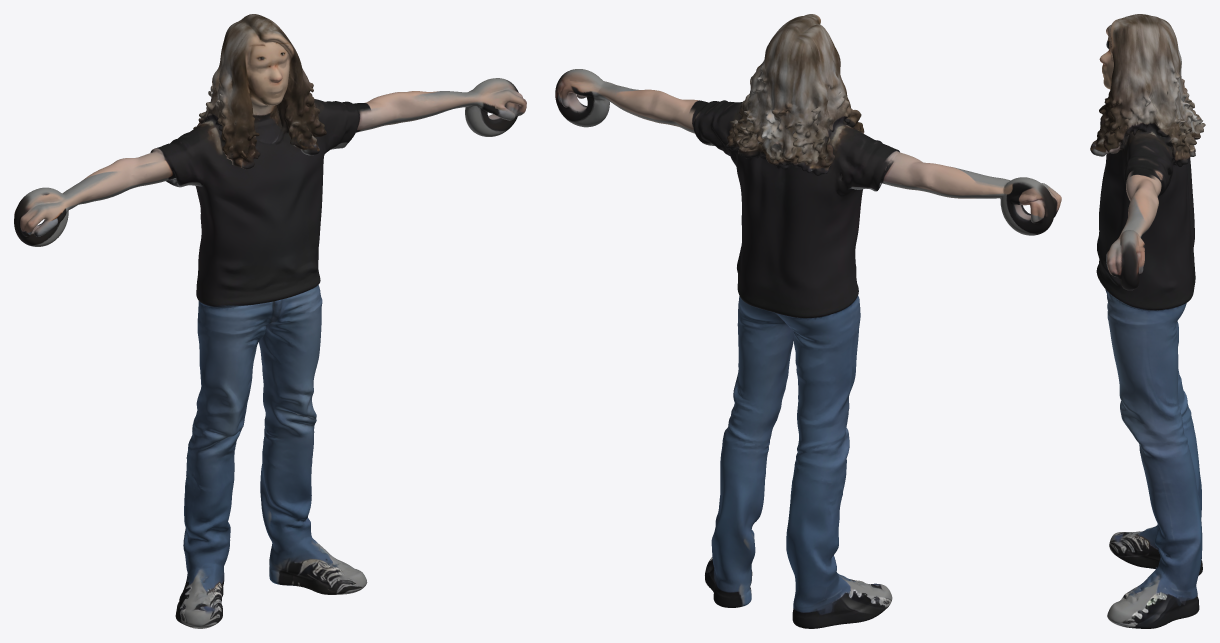
File: max.glb
3 views of the same model, side by side, from view 1: azimuth 30°, elevation 25°; view 2: azimuth 150°, elevation 25°; view 3: azimuth 270°, elevation 25° (orthographic). The views are drawn at different scales.
Parts seen in each view (by area): view 1: tripo_node_244a2039-4f11-4710-8ceb-407e35687b35; view 2: tripo_node_244a2039-4f11-4710-8ceb-407e35687b35; view 3: tripo_node_244a2039-4f11-4710-8ceb-407e35687b35.
Boxes of the visible parts, x1,y1,x2,y2 form: tripo_node_244a2039-4f11-4710-8ceb-407e35687b35: (14, 14, 526, 628); tripo_node_244a2039-4f11-4710-8ceb-407e35687b35: (555, 14, 1061, 628); tripo_node_244a2039-4f11-4710-8ceb-407e35687b35: (1090, 14, 1205, 628).
Bounding box in the file's own units: 0.8968 × 1 × 0.1831.
Materials: 1 (1 with a texture image).
